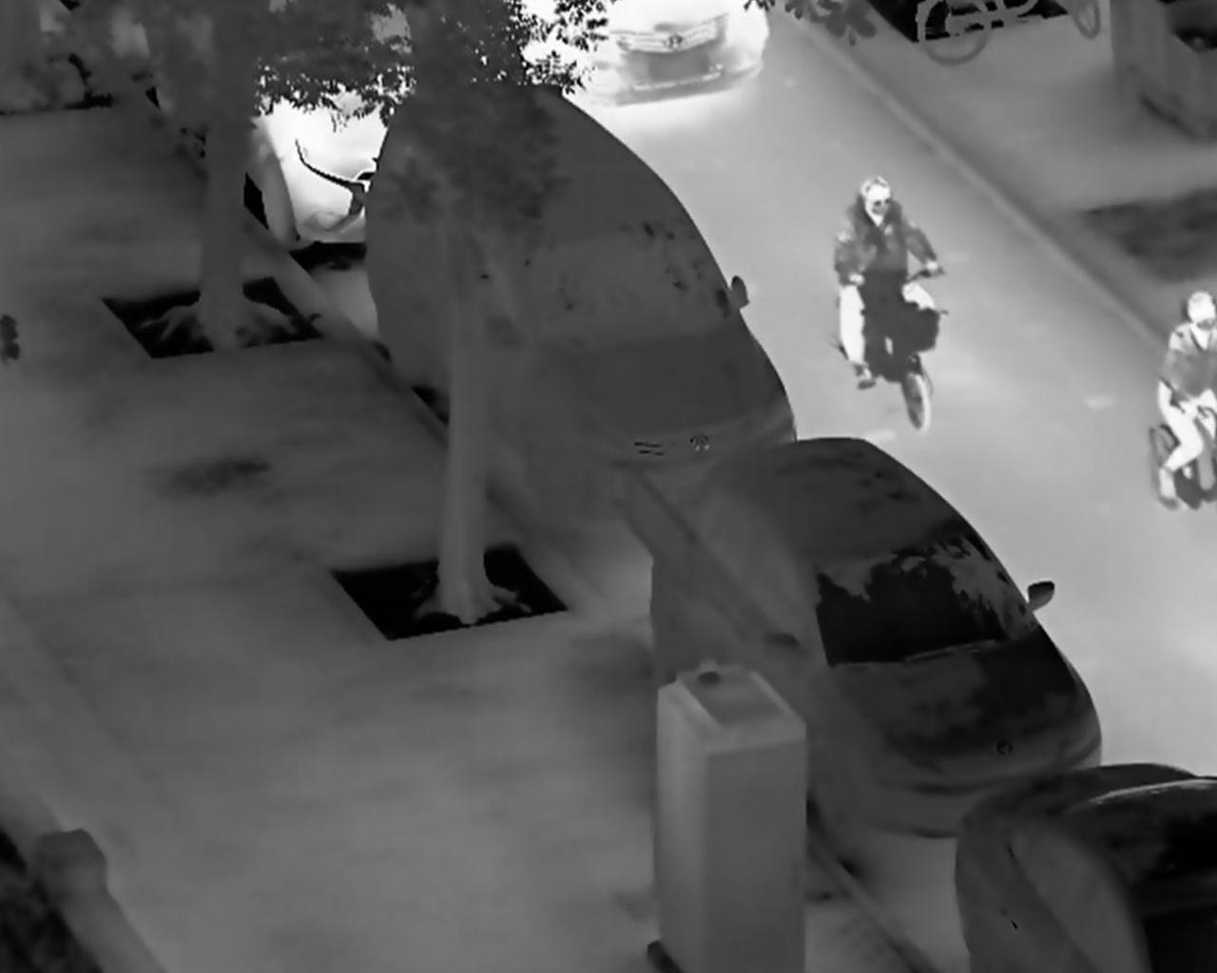person: (832, 172, 945, 391), (1152, 289, 1217, 511)
